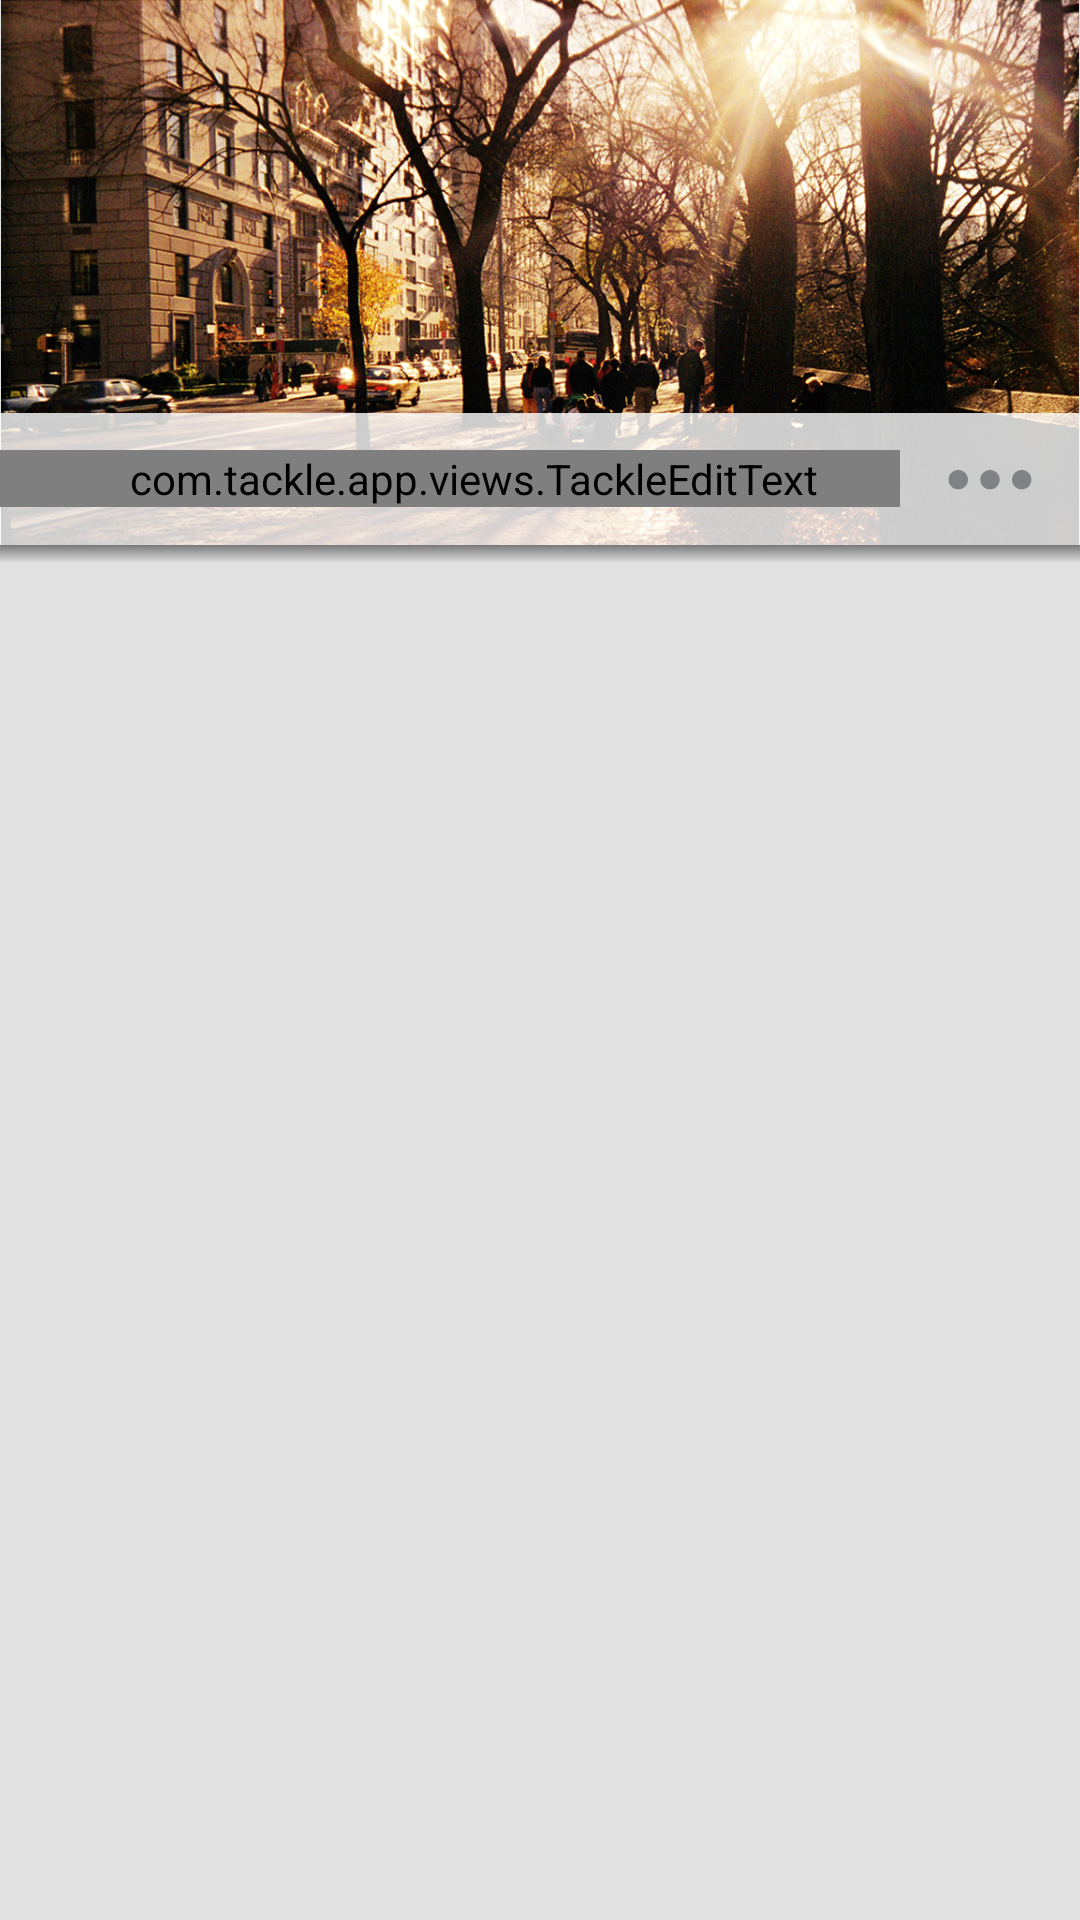

Icon click points for this 1080×1920 phone screenshot, format [x,y]:
more: [990,479]
